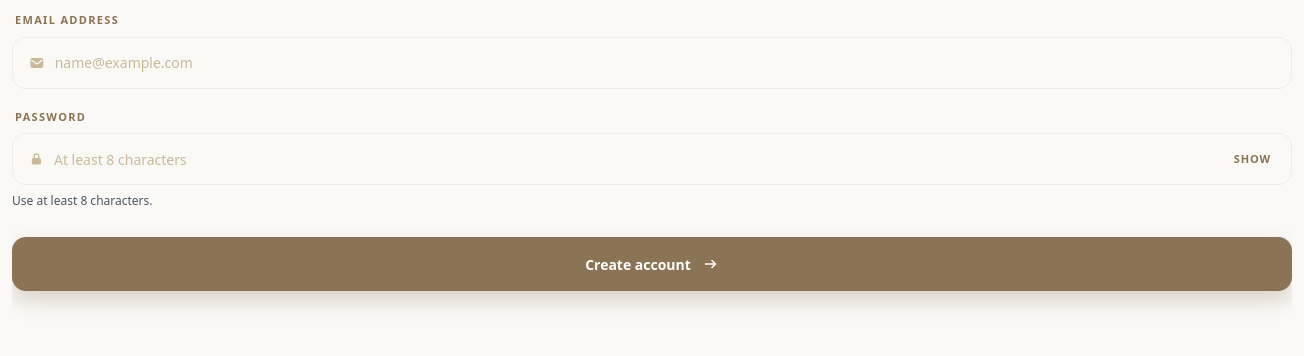
Scenario: SignupForm › asks for a Turnstile token before calling the action when a site key is set
The image size is (1304, 356).
In the field labelled "EMAIL ADDRESS": (665, 62) x1=55 y1=38 x2=1275 y2=88, type "ada@example.com"
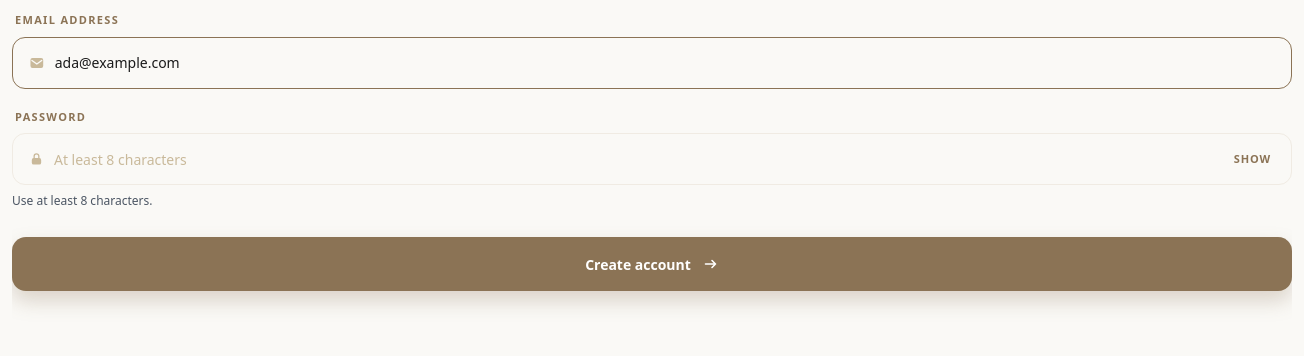
In the password field labelled "PASSWORD": (637, 159) x1=54 y1=134 x2=1220 y2=184, type "password123"
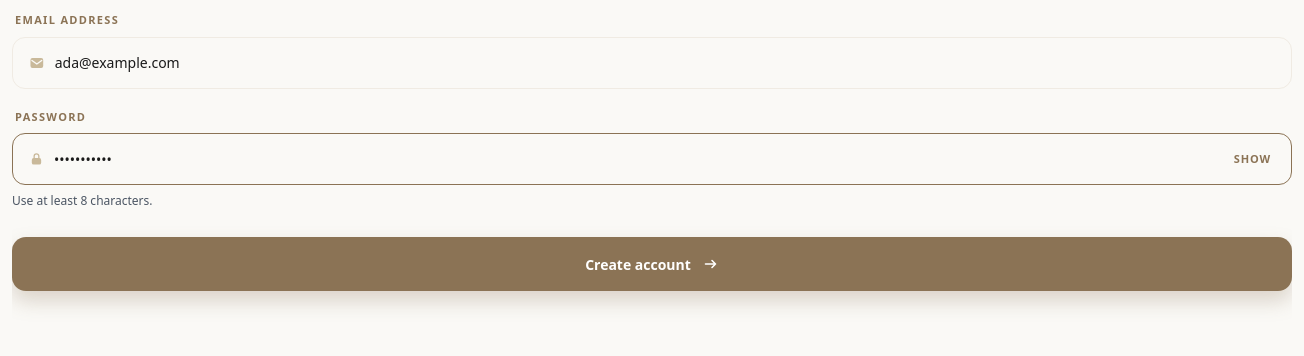
Click the button "Create account": (652, 264) x1=12 y1=237 x2=1292 y2=291
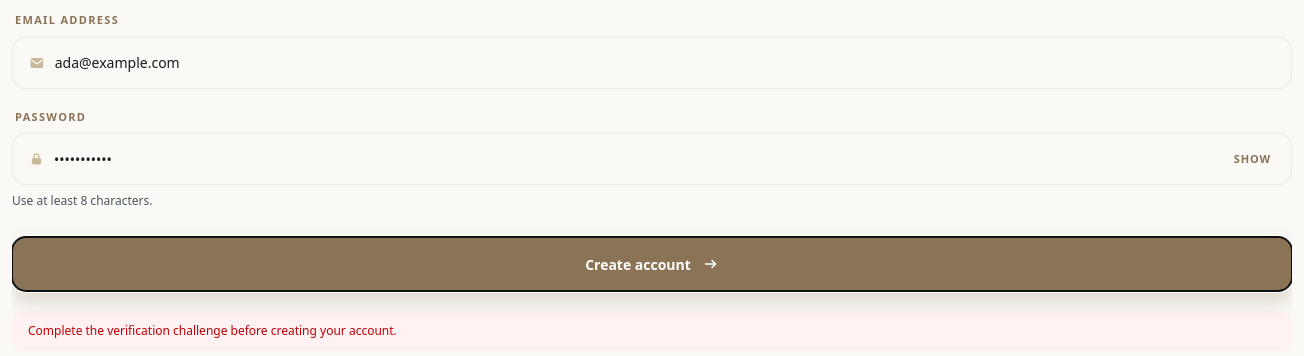
Expected: the message shows "verification challenge", x1=28 y1=322 x2=397 y2=339
